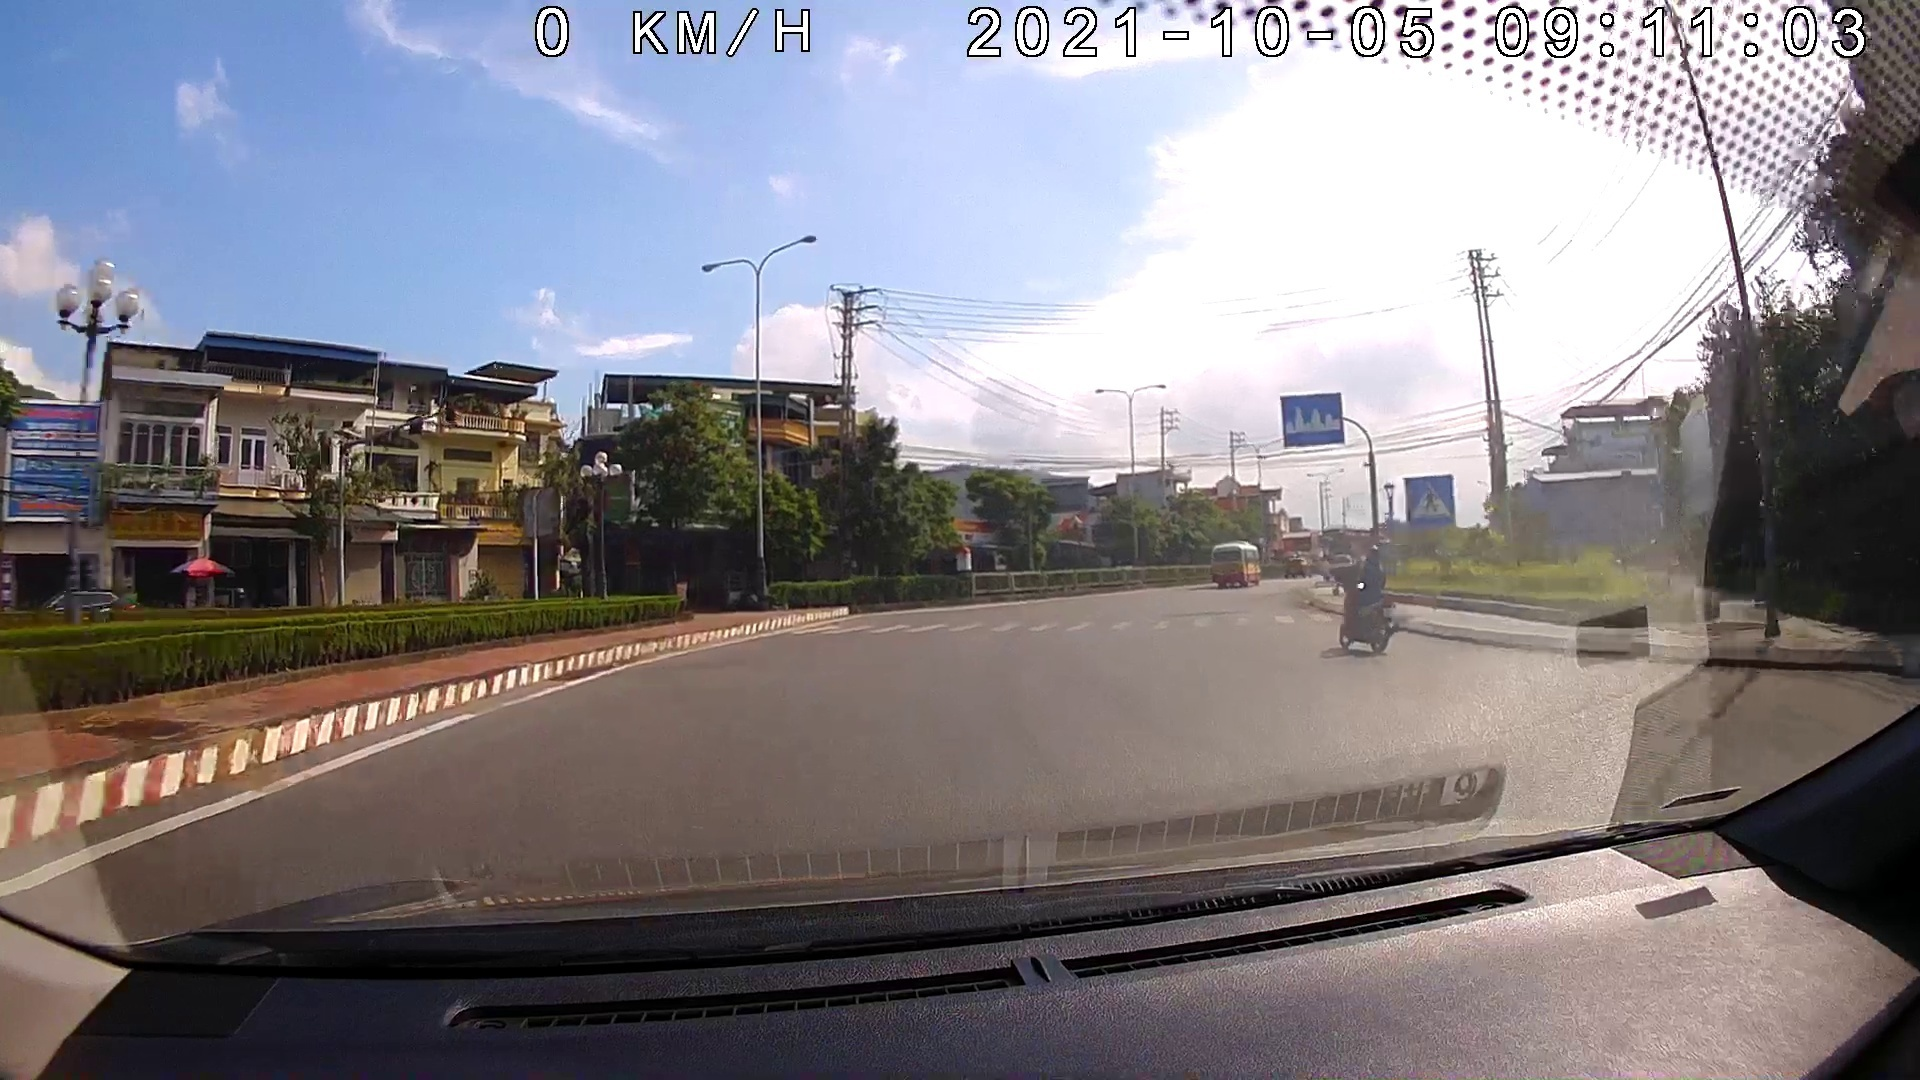Bien khac: (1279, 390, 1345, 447)
Nguoi di bo: (1404, 469, 1456, 529)
